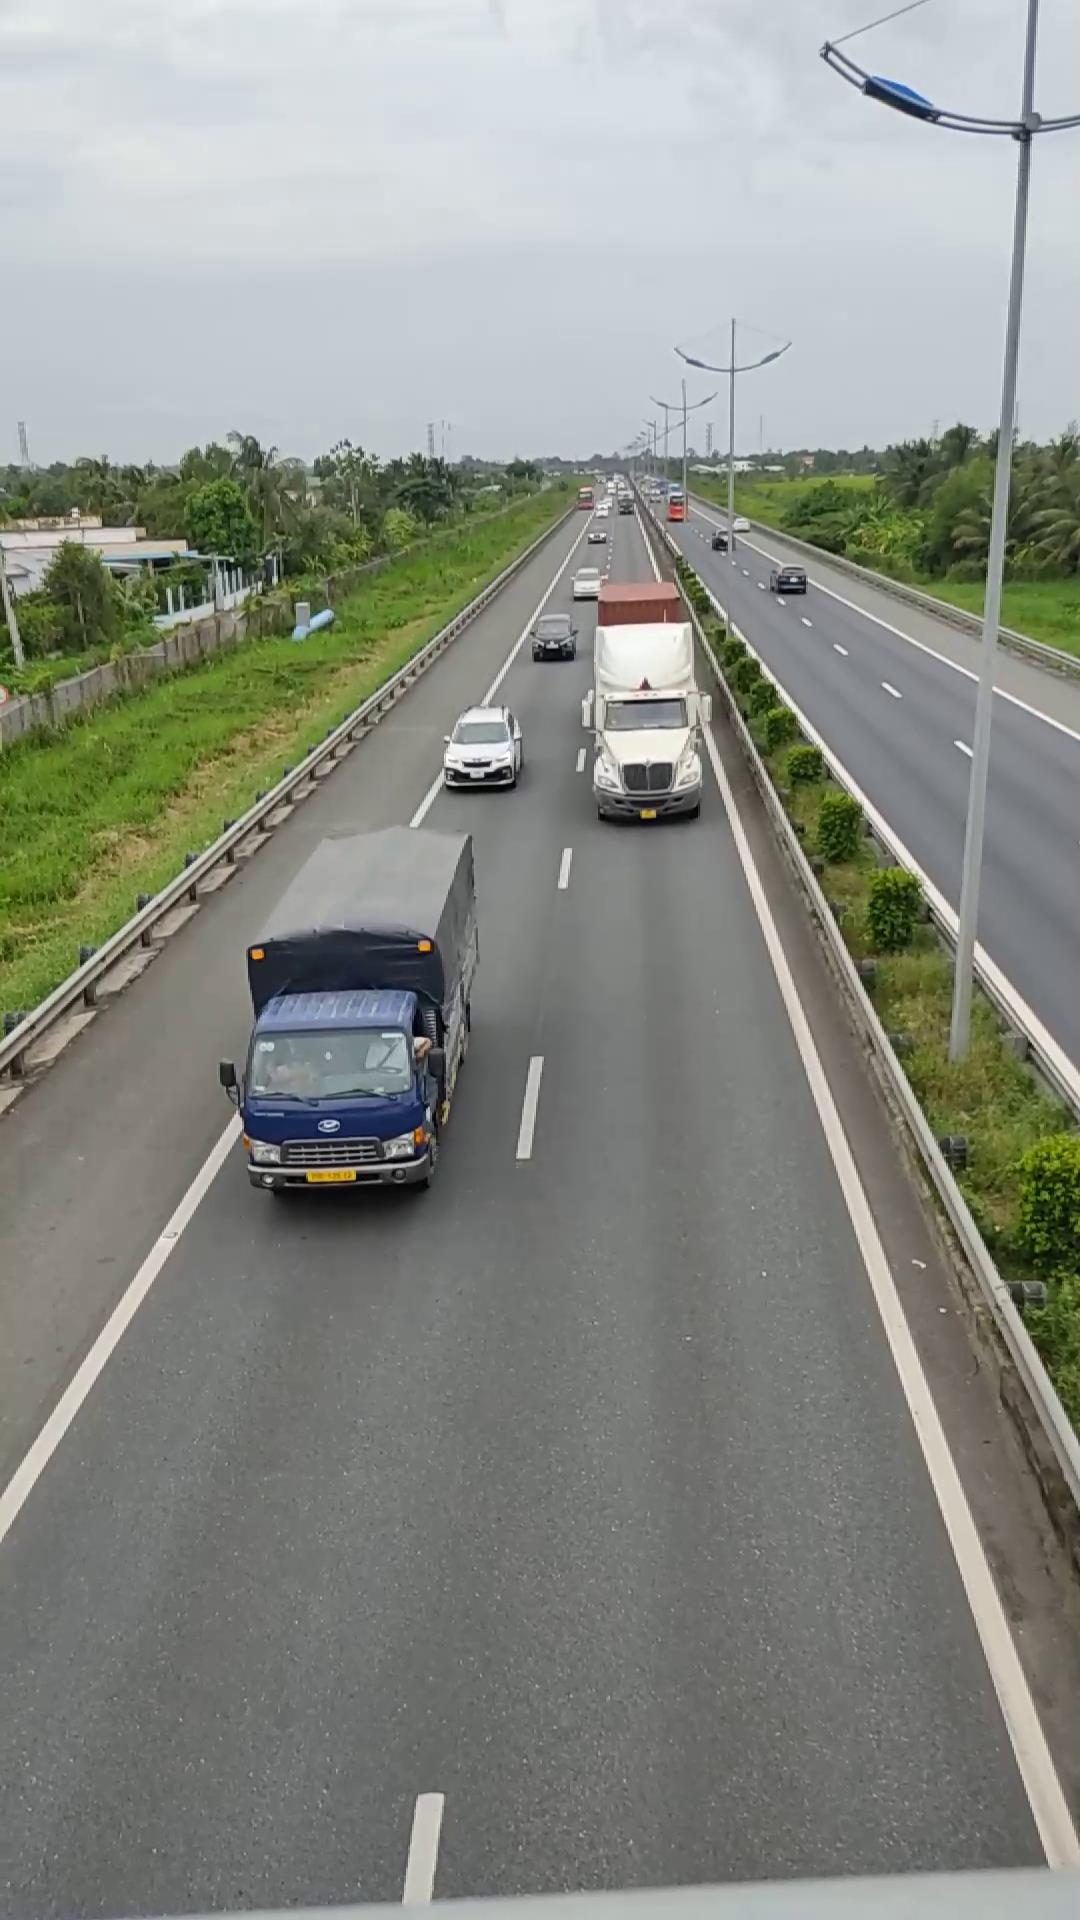car: (442, 705, 525, 790)
container: (576, 570, 709, 819)
truck: (229, 820, 485, 1193)
